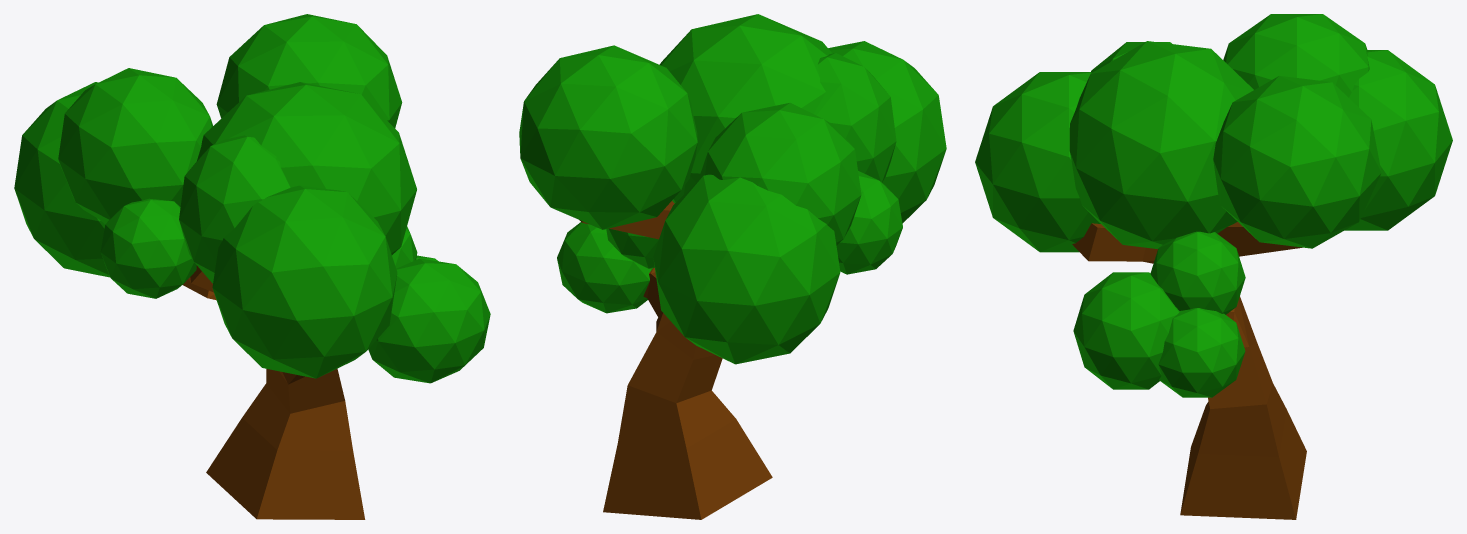
File: tree3.fbx
3 renders of one model, left to right at view 1: azimuth 30°, elevation 25°; view 2: azimuth 150°, elevation 25°; view 3: azimuth 270°, elevation 25°, orthographic. The views are drawn at different scales.
Parts seen in each view (by area): view 1: Icosphere.002, Cube, Icosphere.009, Icosphere.001, Icosphere.006, Icosphere.004, Icosphere, Icosphere.008, Icosphere.007, Icosphere.005; view 2: Icosphere, Icosphere.006, Cube, Icosphere.009, Icosphere.001, Icosphere.002, Icosphere.008, Icosphere.003, Icosphere.007, Icosphere.005; view 3: Icosphere.009, Icosphere.006, Cube, Icosphere.002, Icosphere, Icosphere.004, Icosphere.001, Icosphere.003, Icosphere.005.
Boxes of the visible parts, bbox=[...] form: Icosphere.002: bbox=[212, 185, 397, 378]; Cube: bbox=[183, 265, 365, 519]; Icosphere.009: bbox=[197, 82, 416, 254]; Icosphere.001: bbox=[58, 68, 212, 224]; Icosphere.006: bbox=[216, 14, 402, 128]; Icosphere.004: bbox=[368, 258, 490, 383]; Icosphere: bbox=[14, 82, 110, 277]; Icosphere.008: bbox=[179, 135, 290, 283]; Icosphere.007: bbox=[100, 198, 196, 298]; Icosphere.005: bbox=[392, 226, 417, 268]; Icosphere: bbox=[653, 174, 840, 364]; Icosphere.006: bbox=[519, 45, 697, 229]; Cube: bbox=[579, 201, 772, 519]; Icosphere.009: bbox=[659, 14, 832, 203]; Icosphere.001: bbox=[698, 102, 861, 245]; Icosphere.002: bbox=[828, 41, 946, 223]; Icosphere.008: bbox=[814, 53, 896, 182]; Icosphere.003: bbox=[557, 222, 652, 313]; Icosphere.007: bbox=[836, 171, 902, 274]; Icosphere.005: bbox=[606, 228, 658, 268]; Icosphere.009: bbox=[1069, 41, 1253, 248]; Icosphere.006: bbox=[1213, 75, 1381, 248]; Cube: bbox=[1072, 222, 1306, 519]; Icosphere.002: bbox=[975, 72, 1100, 252]; Icosphere: bbox=[1344, 50, 1452, 230]; Icosphere.004: bbox=[1073, 272, 1179, 389]; Icosphere.001: bbox=[1223, 14, 1369, 97]; Icosphere.003: bbox=[1158, 308, 1245, 397]; Icosphere.005: bbox=[1150, 231, 1245, 314].
Size of the model in its own units: 329 by 418 by 417.
